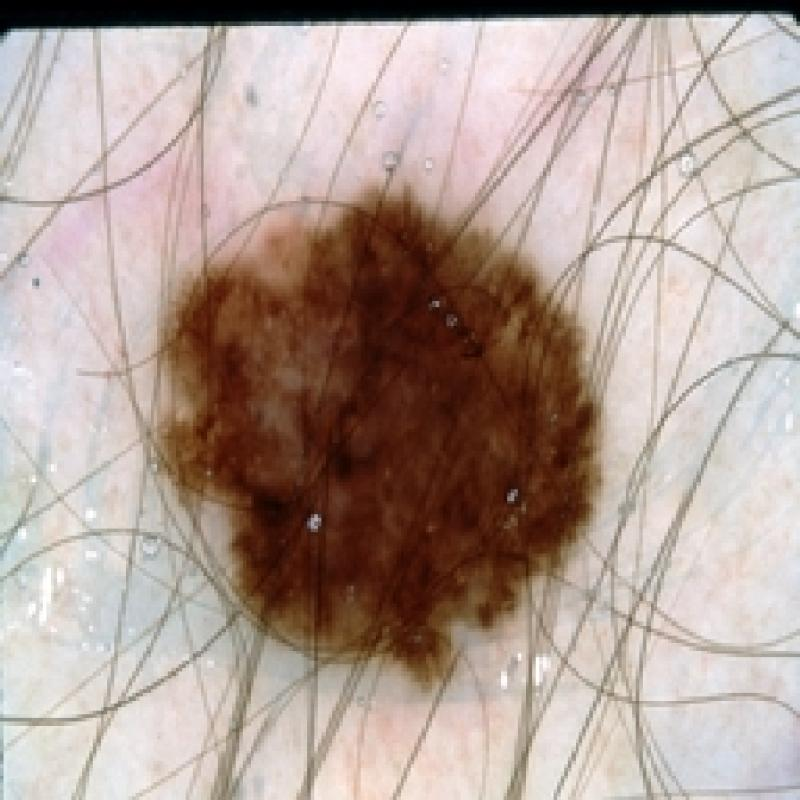malignant: (124, 179, 630, 738)
